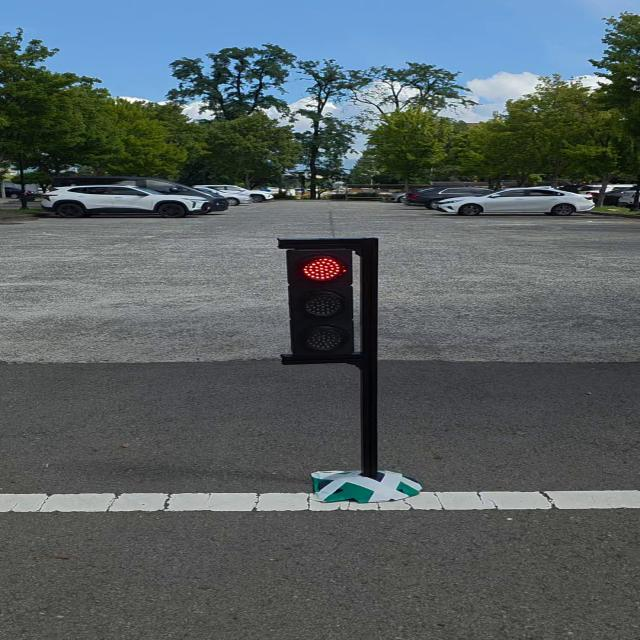red: (265, 235, 375, 367)
